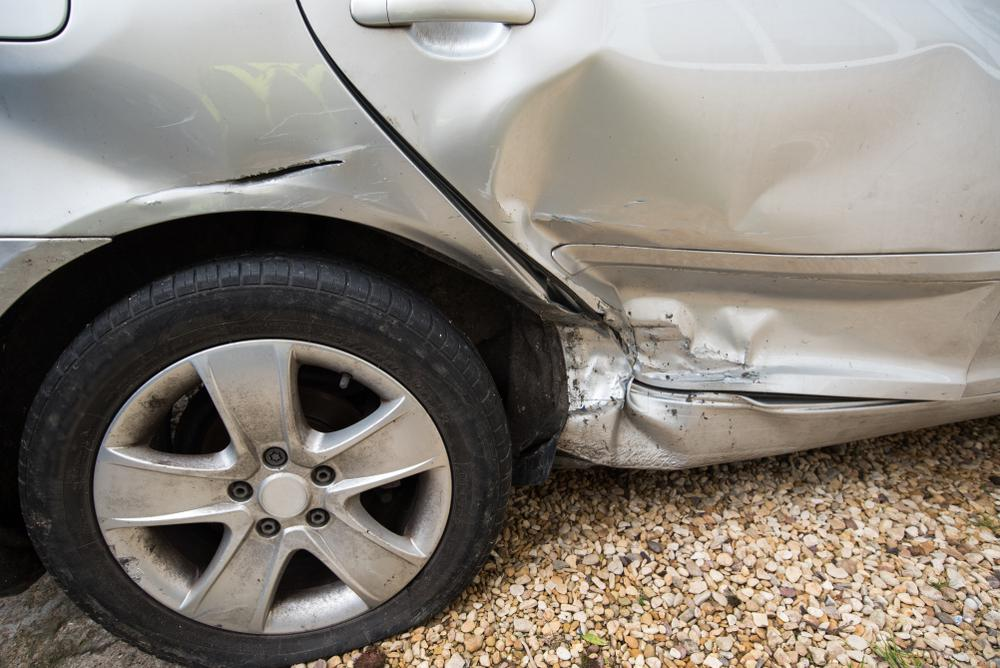crack: (220, 159, 345, 183)
dent: (489, 46, 1000, 393), (0, 58, 216, 233), (562, 311, 691, 469)
